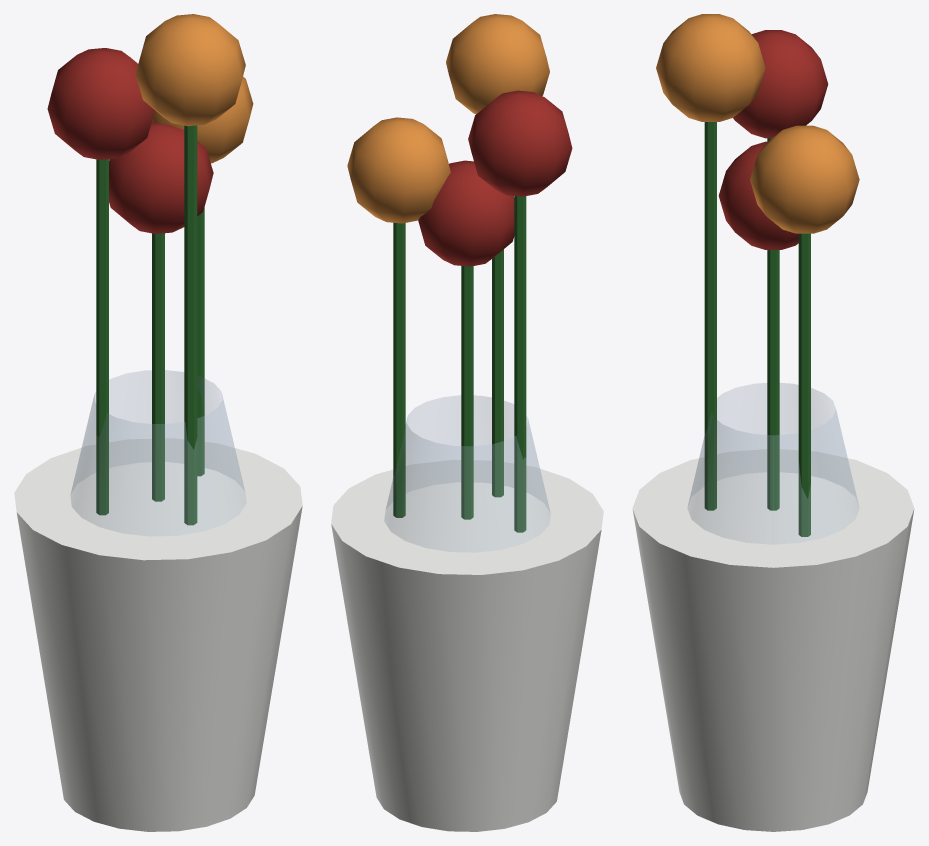
File: Vase_Flowers.glb
The picture shows the model from 3 angles, left to right: view 1: azimuth 30°, elevation 25°; view 2: azimuth 150°, elevation 25°; view 3: azimuth 270°, elevation 25°; orthographic projection. The views are drawn at different scales.
Visible parts, largest first — view 1: Vase_Flowers; view 2: Vase_Flowers; view 3: Vase_Flowers.
Part boxes in pixels (<box>): Vase_Flowers: <box>14,14,302,831</box>; Vase_Flowers: <box>331,14,603,831</box>; Vase_Flowers: <box>632,14,914,831</box>.
Bounding box in the file's own units: 0.18 × 0.545 × 0.18.
